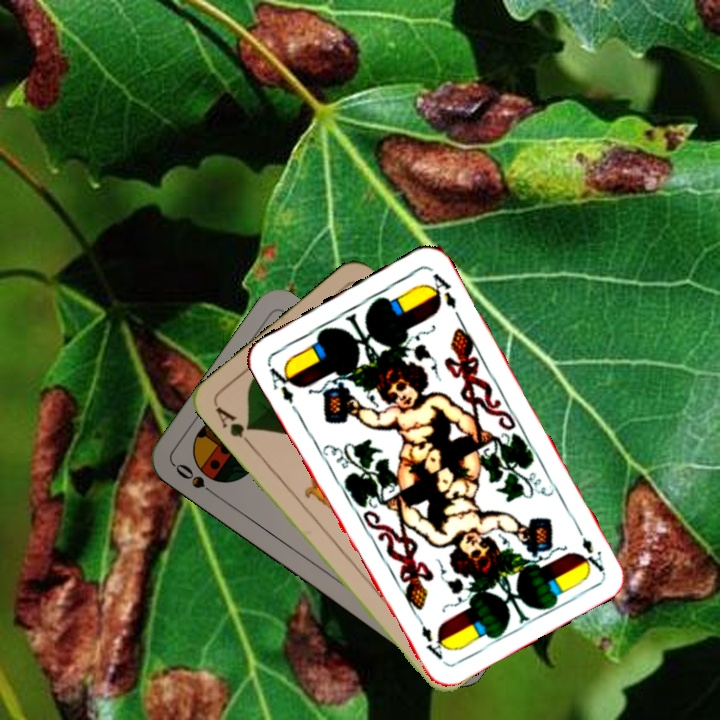EA: (571, 519, 607, 576), (264, 360, 299, 407)
GA: (211, 402, 256, 450)
SO: (170, 459, 221, 501)
